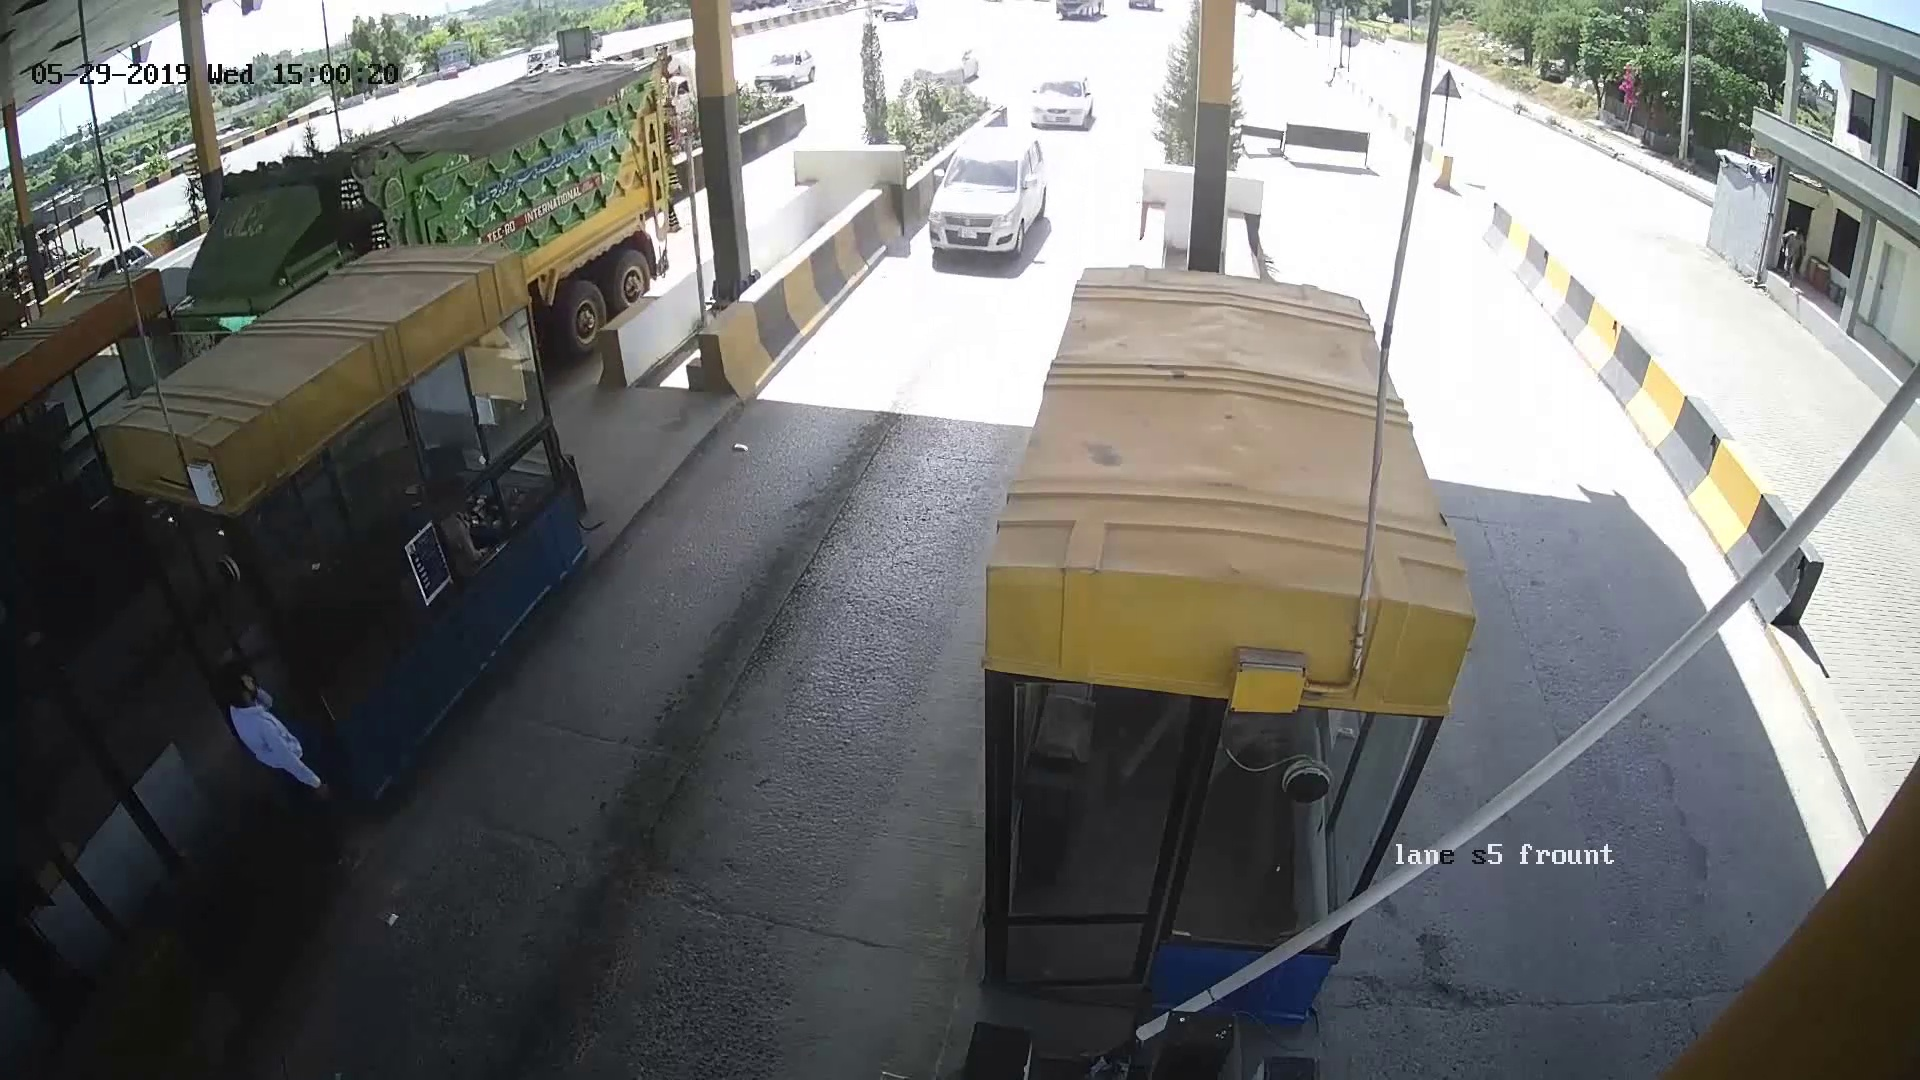car: (906, 132, 1071, 261)
